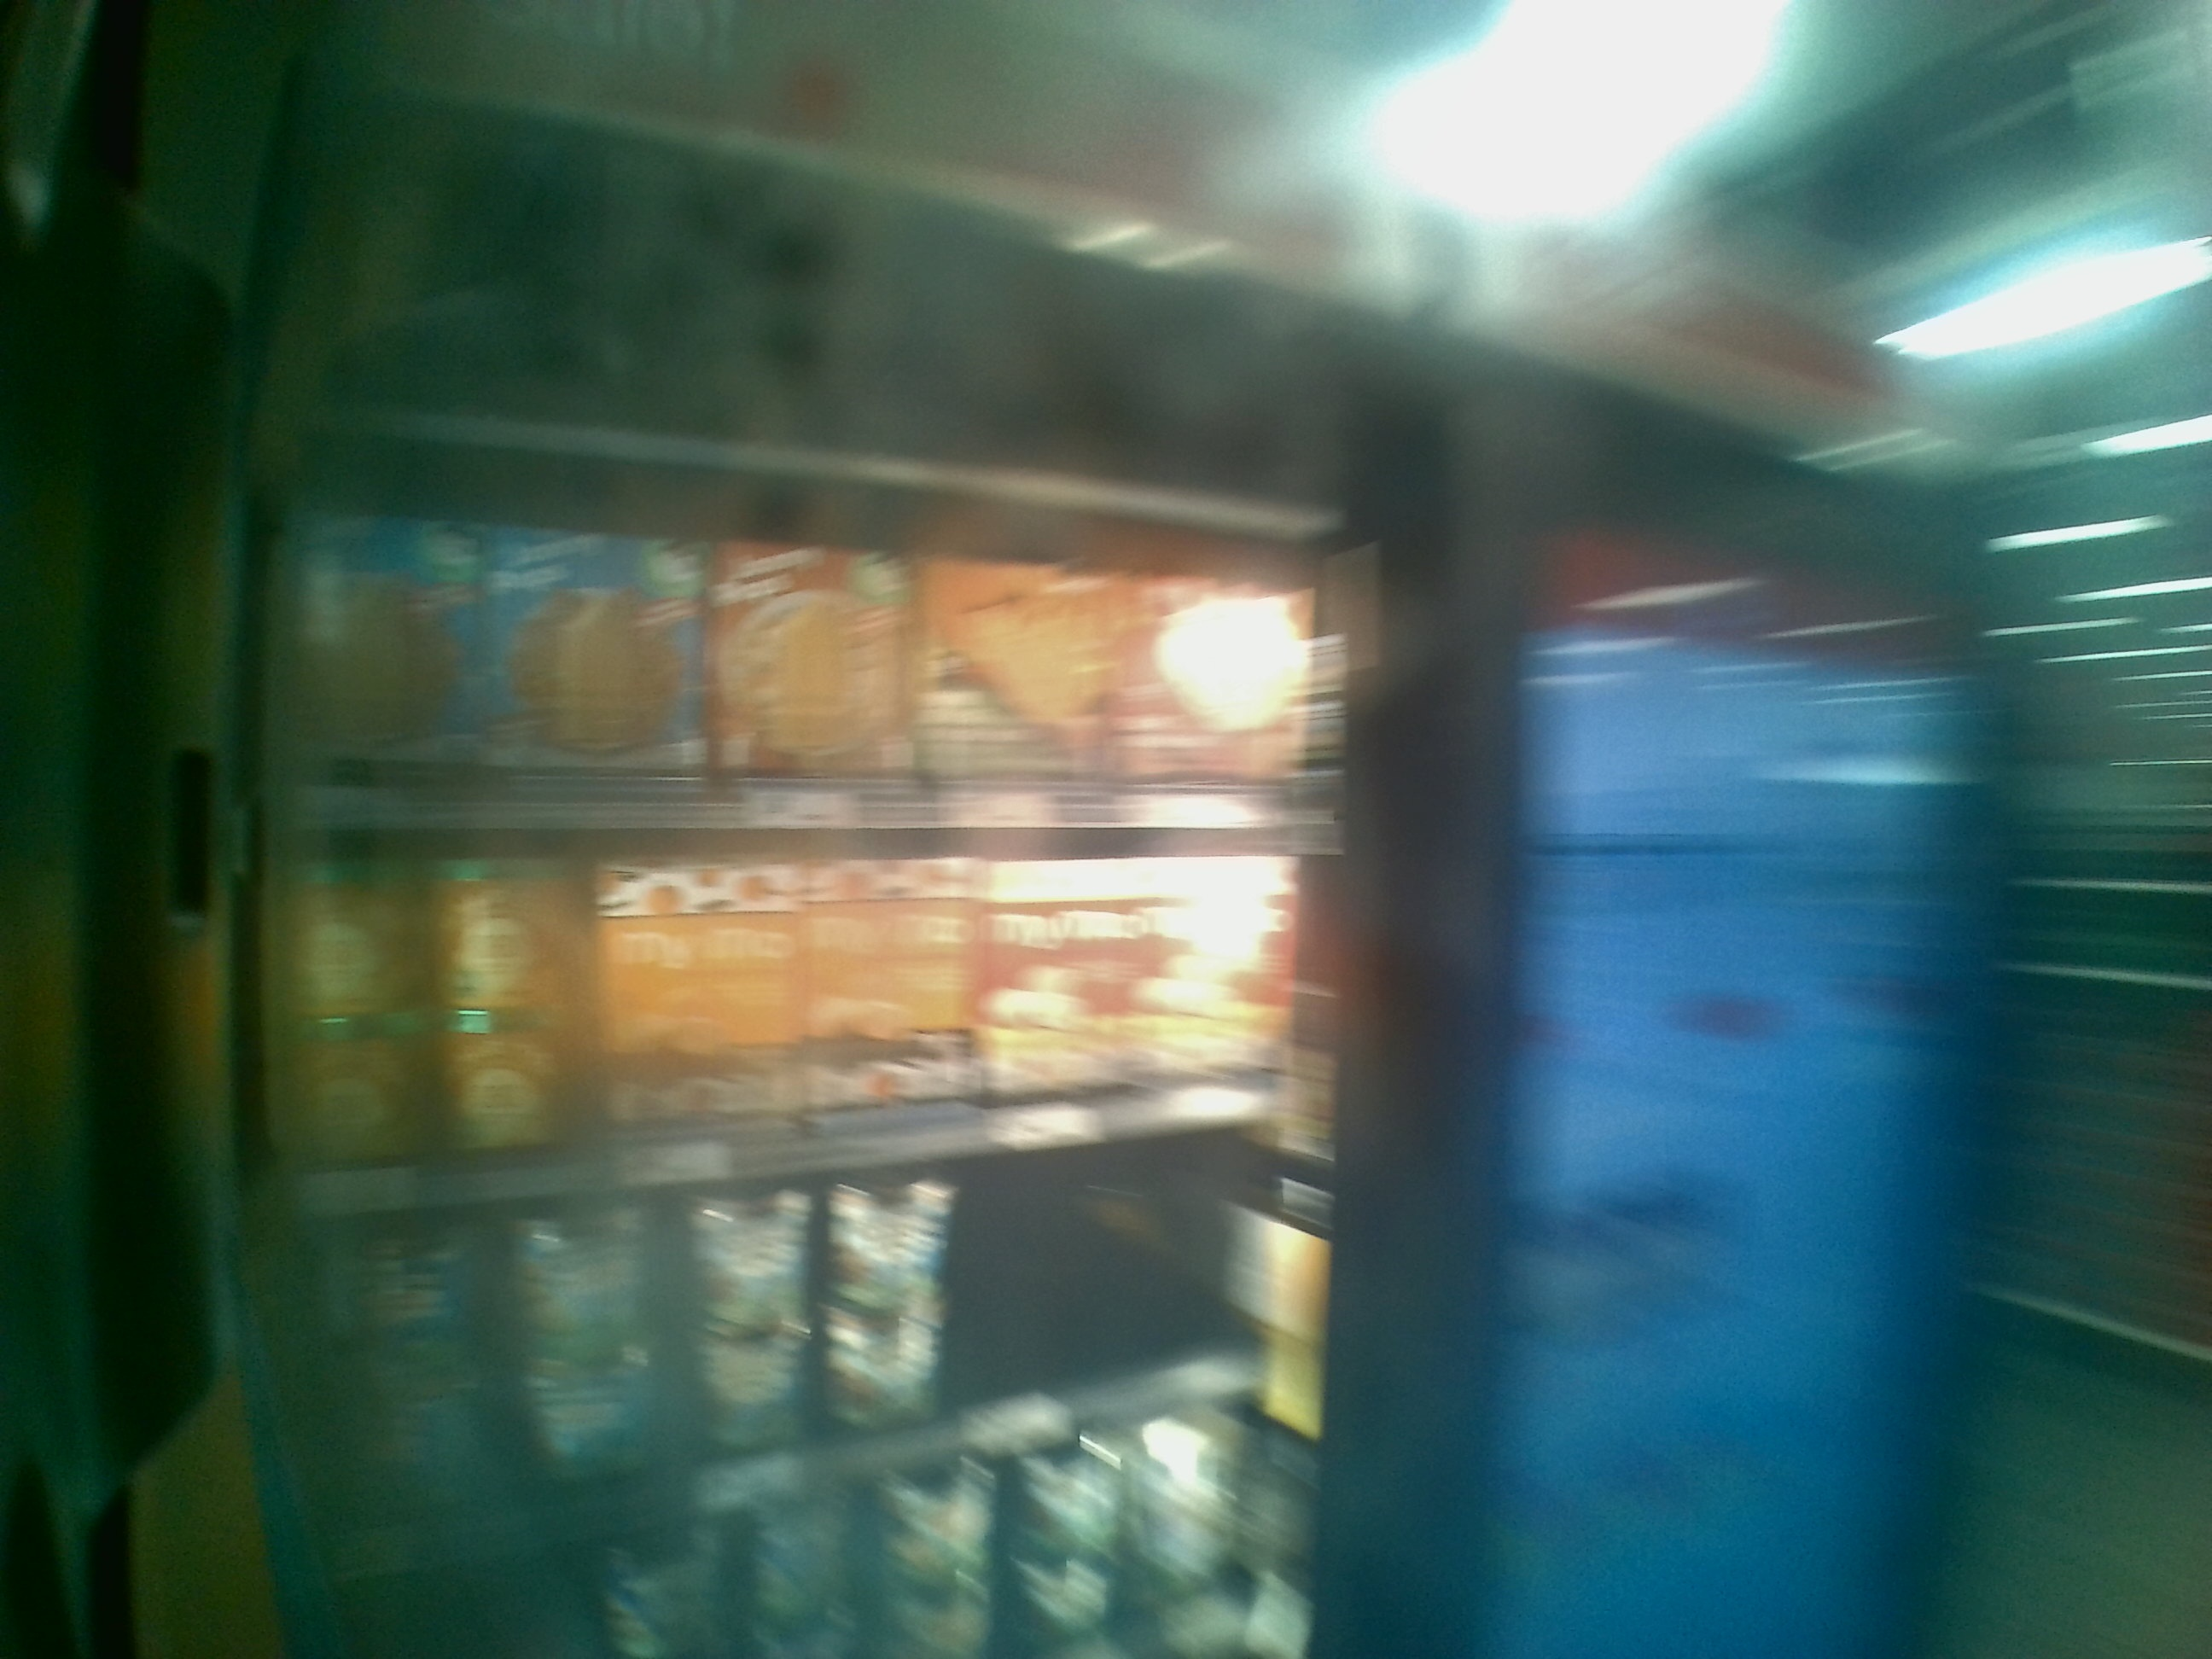shelf: (249, 422, 1299, 809), (273, 803, 1298, 1127), (275, 1187, 1292, 1389)
